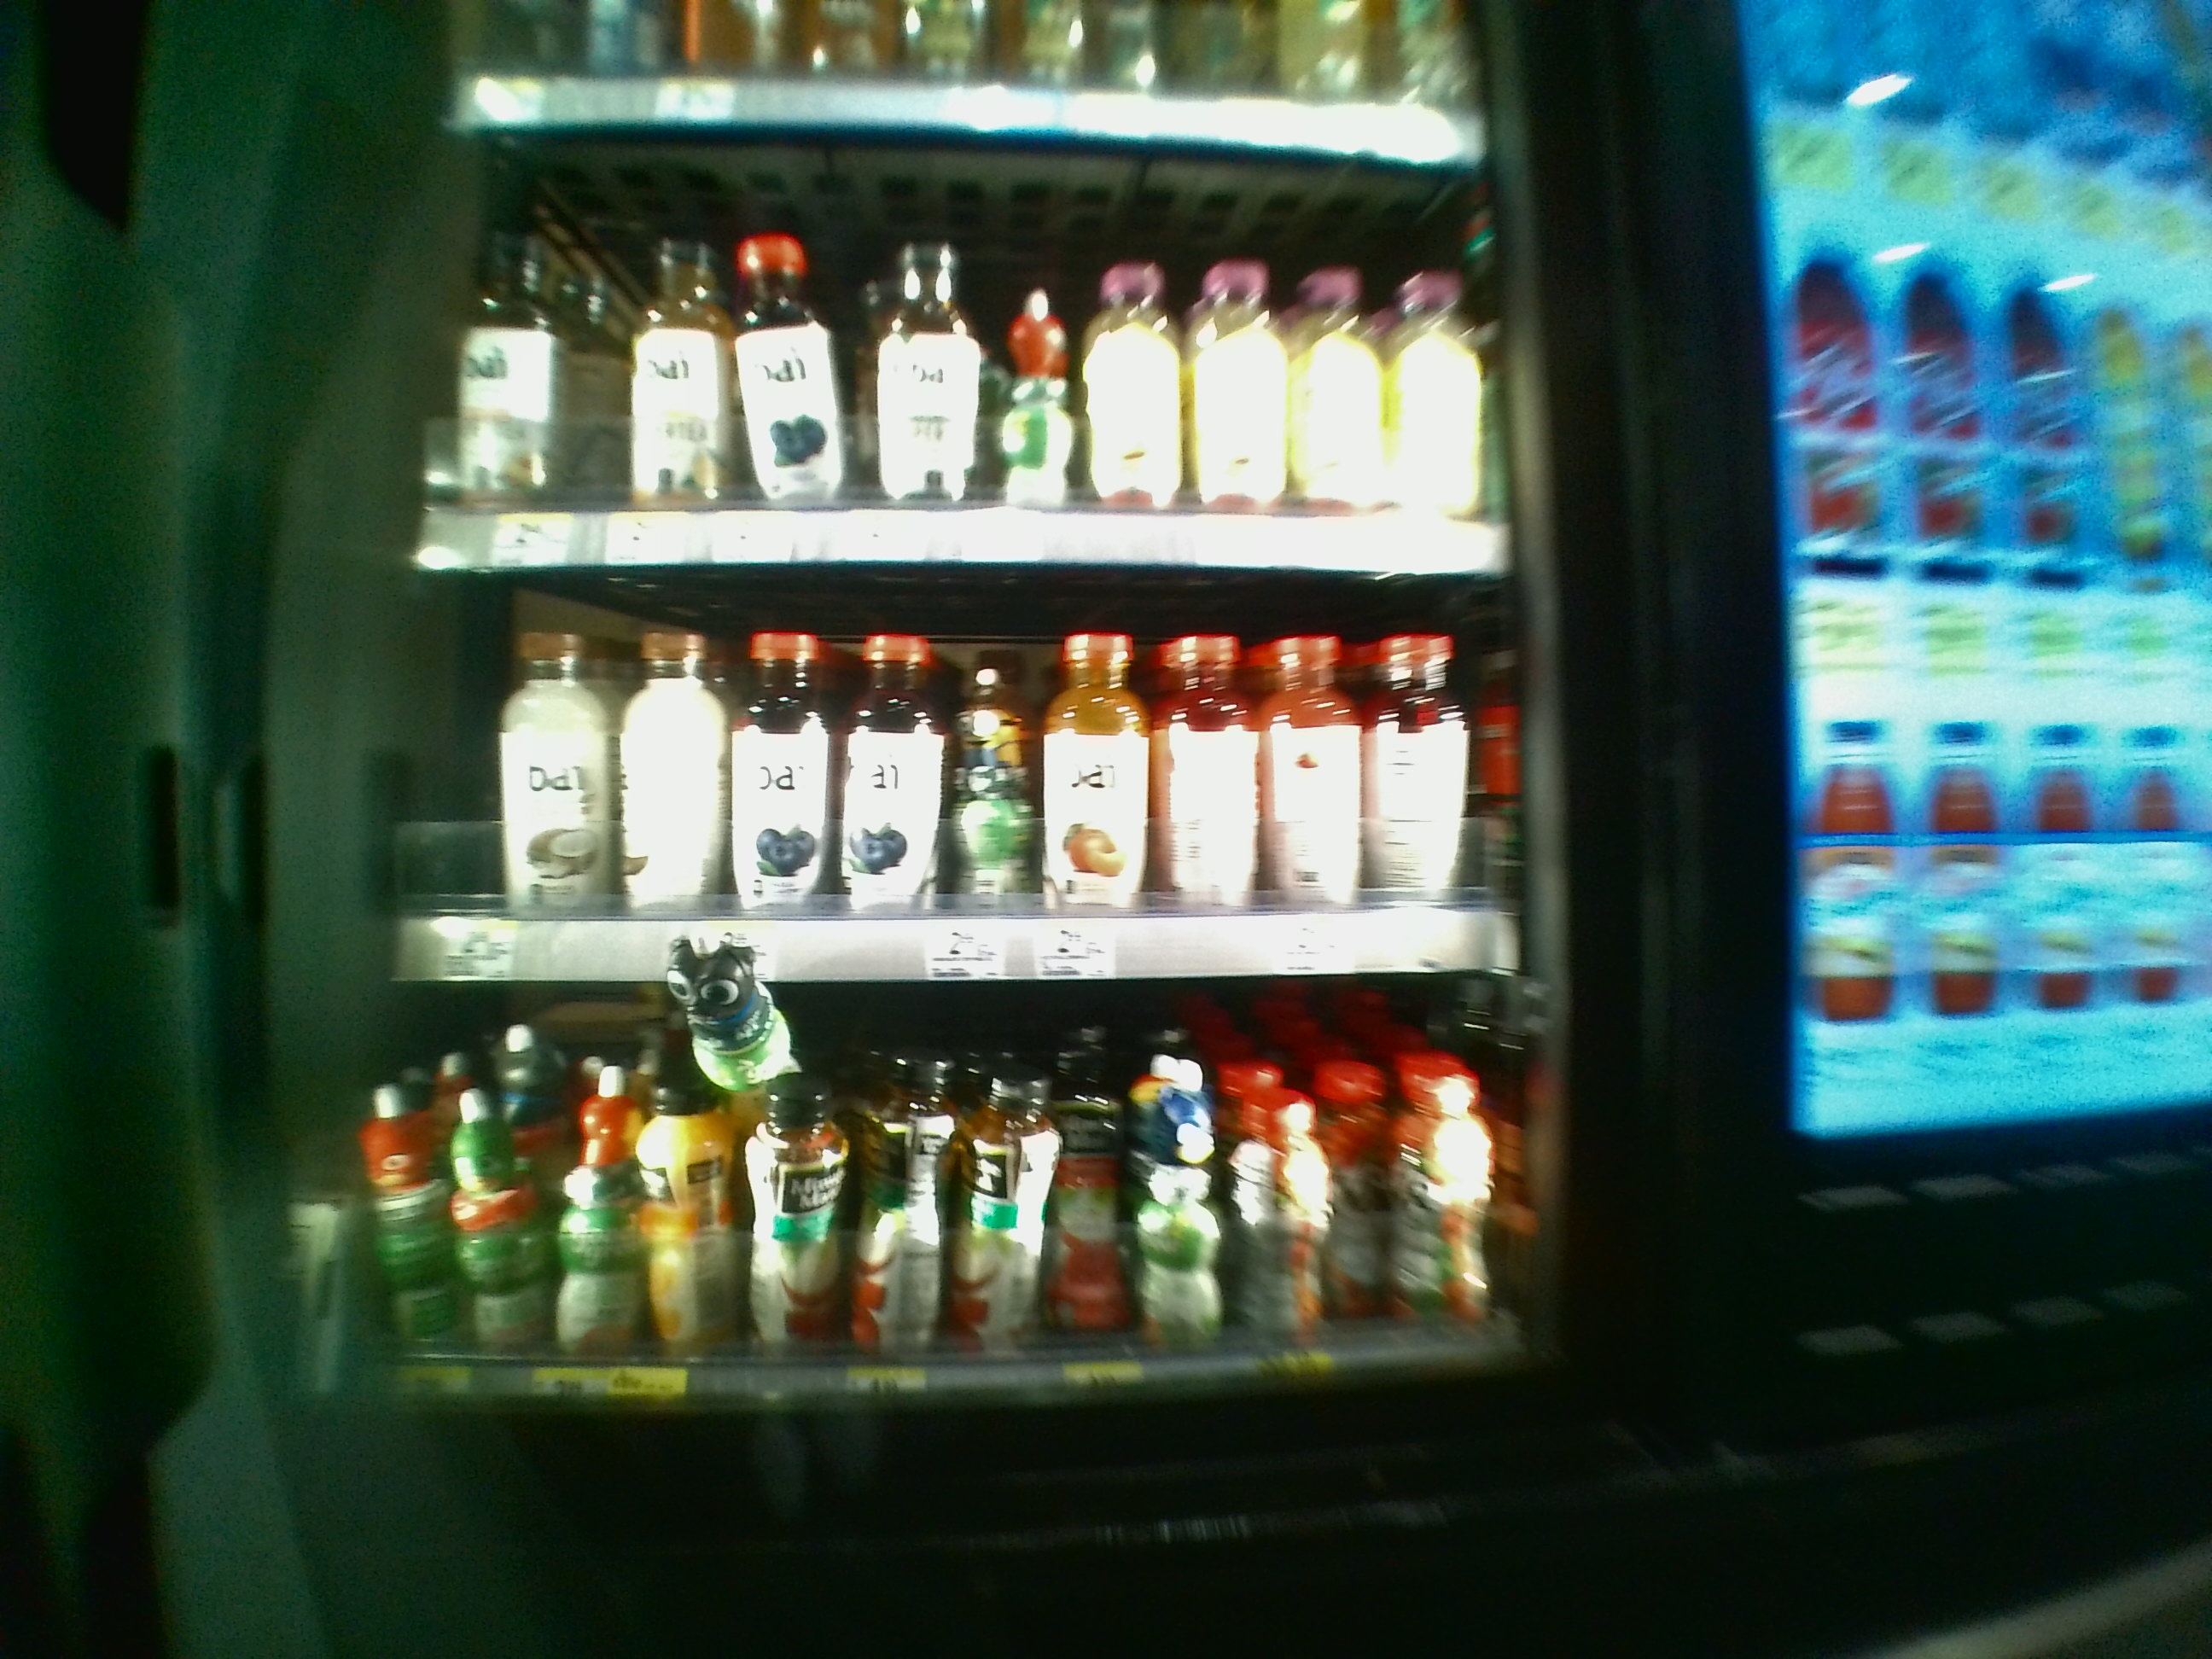shelf: (420, 125, 1514, 573), (374, 993, 1541, 1406), (394, 587, 1521, 974)
